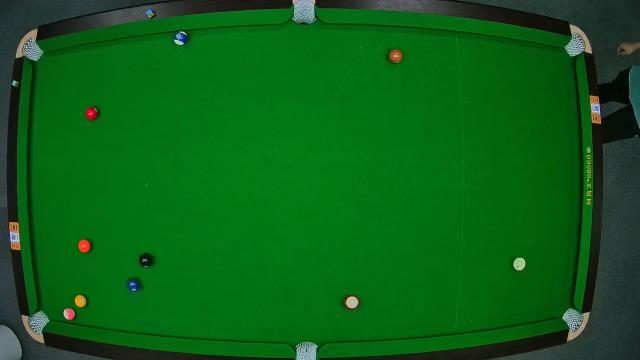bag1: (20, 38, 44, 62)
bag2: (292, 1, 316, 24)
bag3: (565, 31, 589, 56)
bag4: (22, 312, 48, 336)
bag5: (294, 340, 318, 360)
bag6: (562, 308, 586, 336)
ball0: (512, 256, 526, 272)
ball1: (75, 294, 87, 308)
ball10: (172, 30, 190, 46)
ball11: (344, 294, 358, 310)
ball12: (62, 308, 76, 320)
ball2: (127, 278, 141, 292)
ball3: (86, 106, 100, 120)
ball5: (78, 240, 90, 253)
ball7: (388, 48, 404, 64)
ball8: (140, 252, 154, 270)
